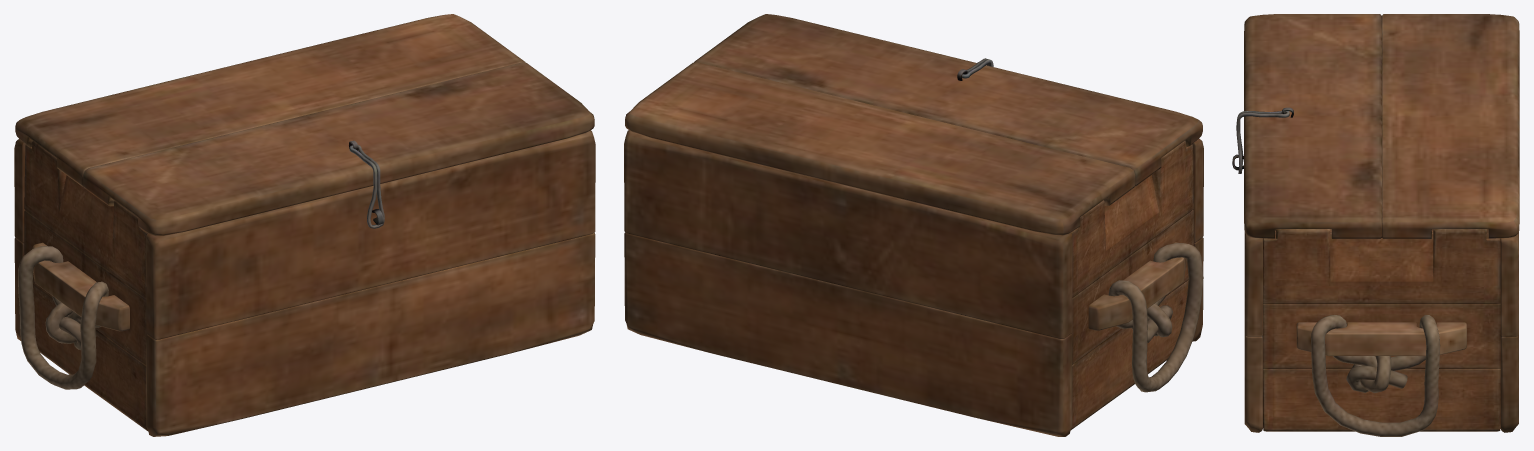
The model's file is wooden_crate_01_512.gltf.
3 renders of one model, left to right at view 1: azimuth 30°, elevation 25°; view 2: azimuth 150°, elevation 25°; view 3: azimuth 270°, elevation 25°, orthographic. The views are drawn at different scales.
Visible parts, largest first — view 1: wooden_crate_01, wooden_crate_01_lid, wooden_crate_01_latch; view 2: wooden_crate_01, wooden_crate_01_lid; view 3: wooden_crate_01_lid, wooden_crate_01, wooden_crate_01_latch.
Boxes of the visible parts, box(x1,y1,x2,y2) form: wooden_crate_01: box(14, 130, 595, 436); wooden_crate_01_lid: box(15, 14, 594, 236); wooden_crate_01_latch: box(349, 145, 384, 228); wooden_crate_01: box(624, 130, 1203, 436); wooden_crate_01_lid: box(625, 14, 1202, 235); wooden_crate_01_lid: box(1244, 14, 1519, 238); wooden_crate_01: box(1232, 154, 1518, 436); wooden_crate_01_latch: box(1236, 111, 1289, 173).
Size of the model in its own units: 0.8253 by 0.3496 by 0.409.
1 material, 1 textured.
